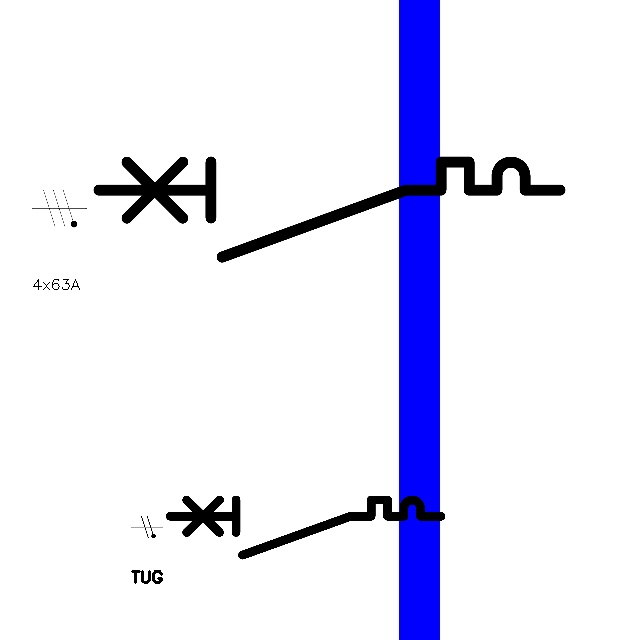interruptor_termomagnetico: (86, 150, 571, 268), (163, 493, 448, 562)
